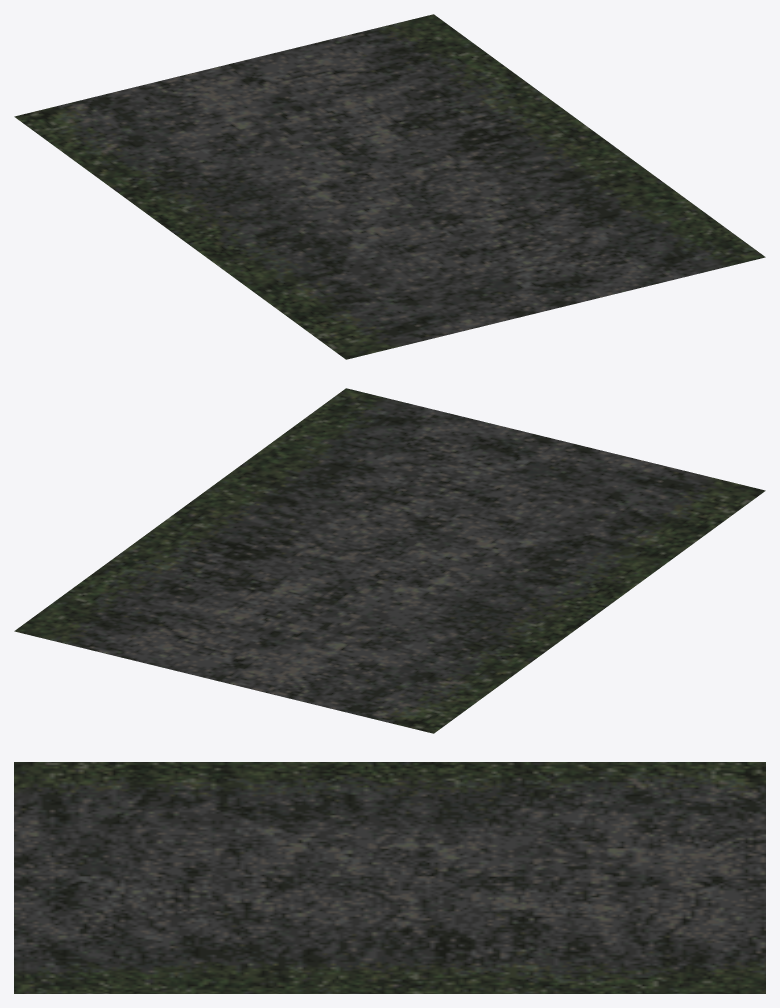
File: SM_EC_PathEdge_0.fbx
3 views of the same model, one above another, from view 1: azimuth 30°, elevation 25°; view 2: azimuth 150°, elevation 25°; view 3: azimuth 270°, elevation 25° (orthographic). The views are drawn at different scales.
Parts seen in each view (by area): view 1: SM_EC_PathEdge_0; view 2: SM_EC_PathEdge_0; view 3: SM_EC_PathEdge_0.
Boxes of the visible parts, box(x1,y1,x2,y2) form: SM_EC_PathEdge_0: box(14, 14, 765, 359); SM_EC_PathEdge_0: box(14, 388, 765, 733); SM_EC_PathEdge_0: box(14, 762, 765, 993).
Bounding box in the file's own units: 2.19 × 3 × 0.
